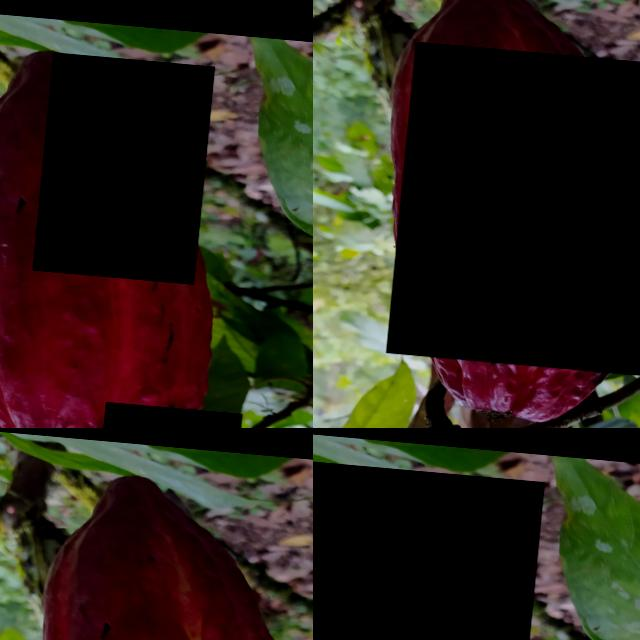Fitoftora: (313, 454, 545, 640), (38, 48, 216, 277), (104, 395, 250, 428)
Monilia: (395, 38, 640, 368)
